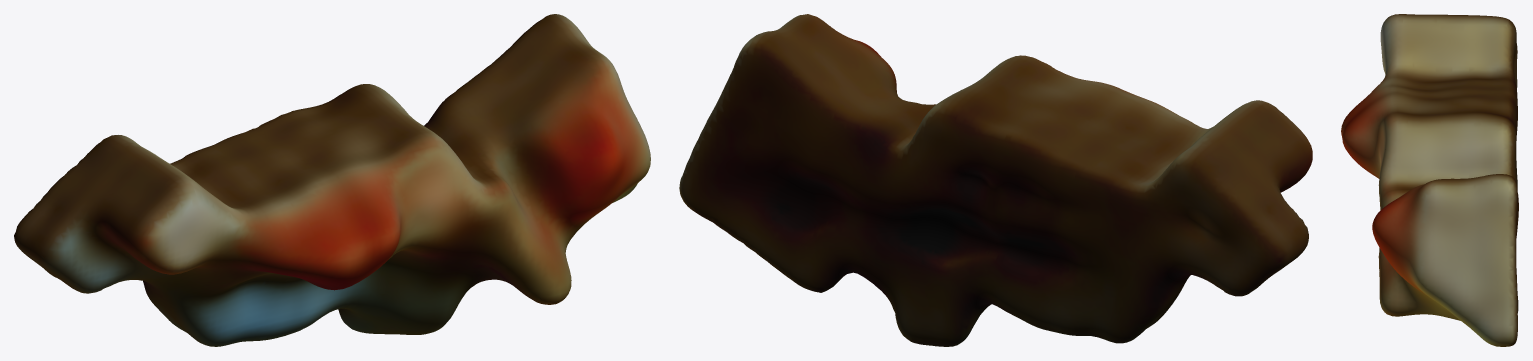
File: blocks.glb
The picture shows the model from 3 angles, left to right: view 1: azimuth 30°, elevation 25°; view 2: azimuth 150°, elevation 25°; view 3: azimuth 270°, elevation 25°; orthographic projection. The views are drawn at different scales.
Bounding box in the file's own units: 0.9988 × 0.4212 × 0.3221.
